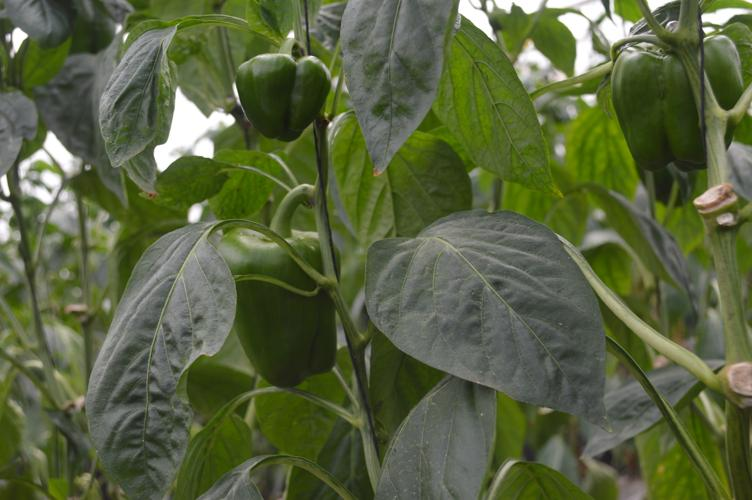BellPepper: (221, 228, 343, 386), (610, 36, 742, 182), (235, 57, 325, 142)
